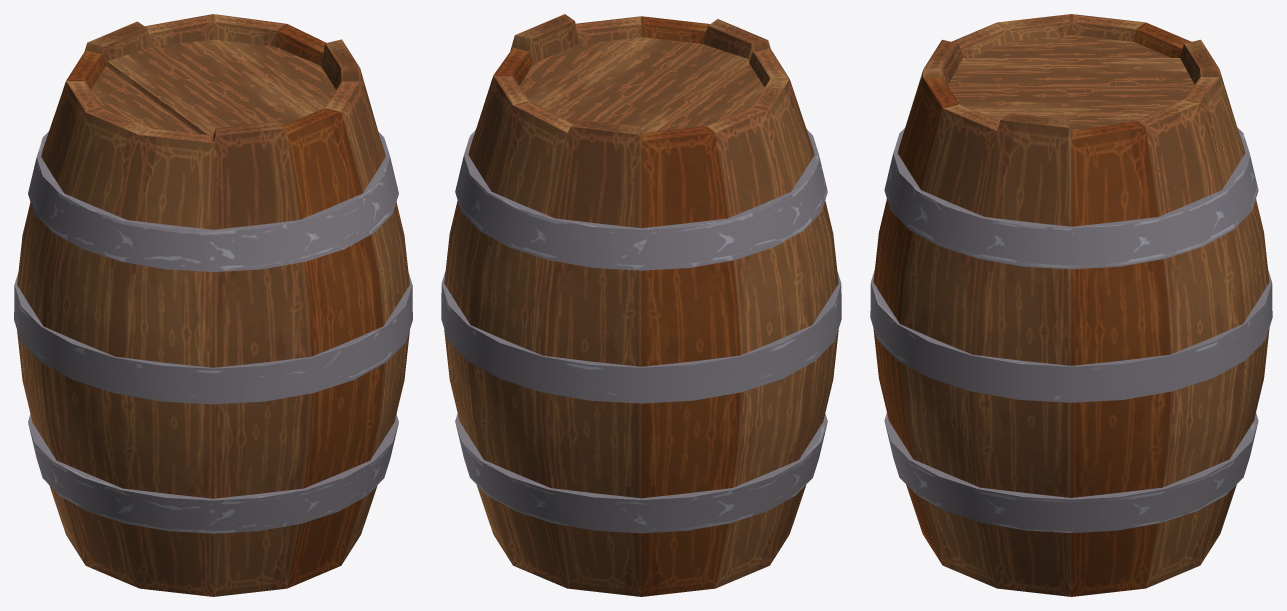
Rendered from Barrel.gltf.
3 renders of one model, left to right at view 1: azimuth 30°, elevation 25°; view 2: azimuth 150°, elevation 25°; view 3: azimuth 270°, elevation 25°, orthographic.
Visible parts, largest first — view 1: Barrel; view 2: Barrel; view 3: Barrel.
Part boxes in pixels (x1,y1,x2,y2): Barrel: (14, 14, 412, 596); Barrel: (441, 14, 841, 596); Barrel: (870, 14, 1272, 596).
Size of the model in its own units: 0.698 by 0.898 by 0.698.
Materials: 2 (2 with a texture image).
